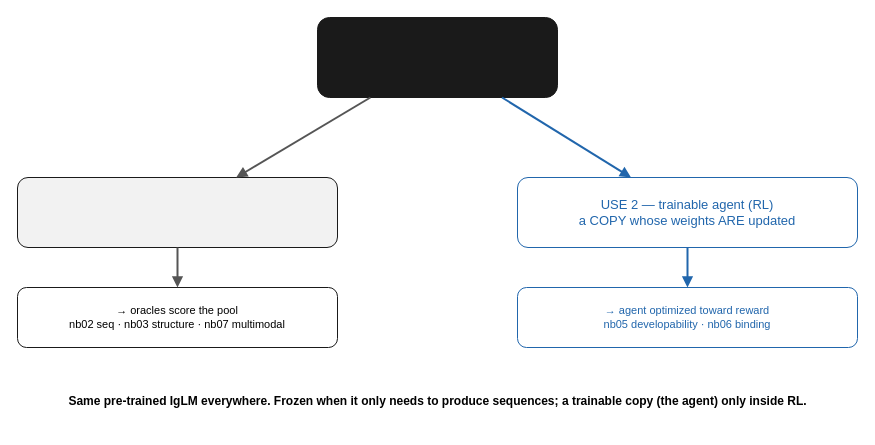
The diagram is 875 pixels wide and 445 high, and some of its shapes have lost their labels. The shapes that lost their labels are listed below. From the top down, each one's centre as x and y in pixels, then its label:
At pixel 437 57: "IgLM (pre-trained) antibody LM · ~12.9M params generates CDRH3 by infill".
At pixel 177 212: "USE 1 — frozen producer generates a fixed pool; weights untouched".
